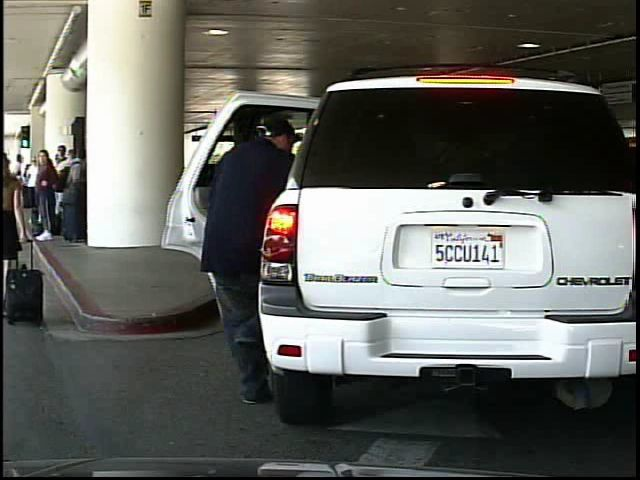person: (196, 109, 302, 358)
